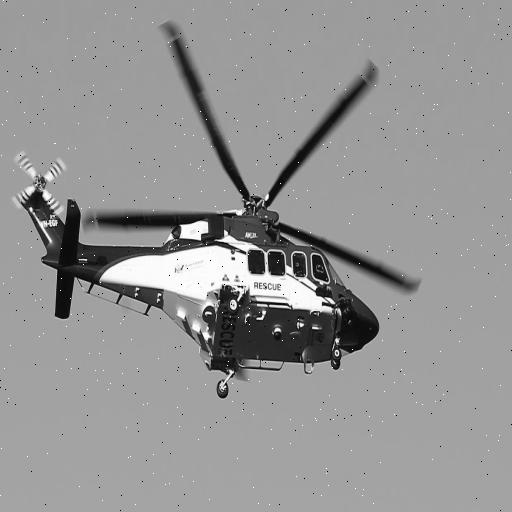helicopter: (14, 15, 424, 401)
